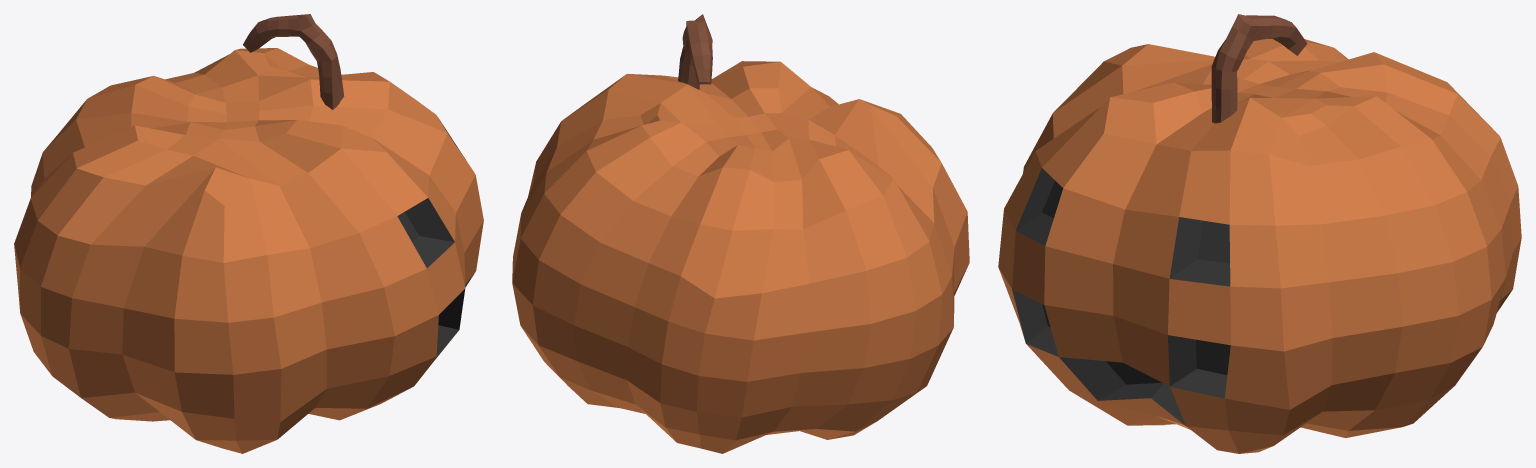
Rendered from balkabag.fbx.
The picture shows the model from 3 angles, left to right: view 1: azimuth 30°, elevation 25°; view 2: azimuth 150°, elevation 25°; view 3: azimuth 270°, elevation 25°; orthographic projection. The views are drawn at different scales.
Parts seen in each view (by area): view 1: Retopo_Cube.005; view 2: Retopo_Cube.005; view 3: Retopo_Cube.005.
Boxes of the visible parts, left/top/right/bottom form: Retopo_Cube.005: left=14, top=14, right=483, bottom=453; Retopo_Cube.005: left=512, top=14, right=969, bottom=453; Retopo_Cube.005: left=998, top=14, right=1521, bottom=453.
Bounding box in the file's own units: 195 × 170 × 191.
